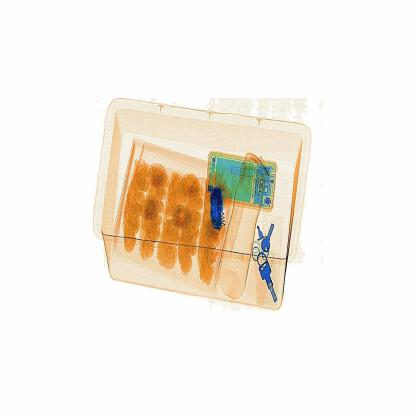scissors: (203, 177, 229, 244)
